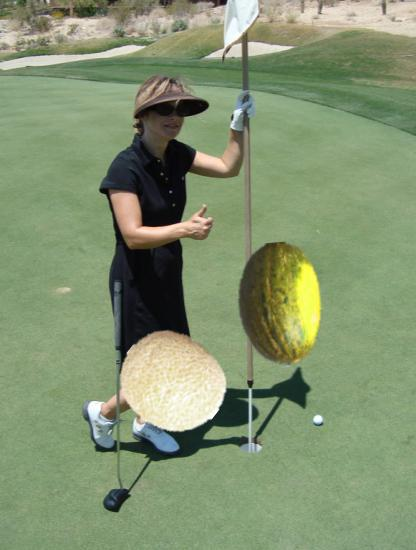Cantaloupe: (117, 329, 226, 438)
Melon: (217, 242, 343, 368)
